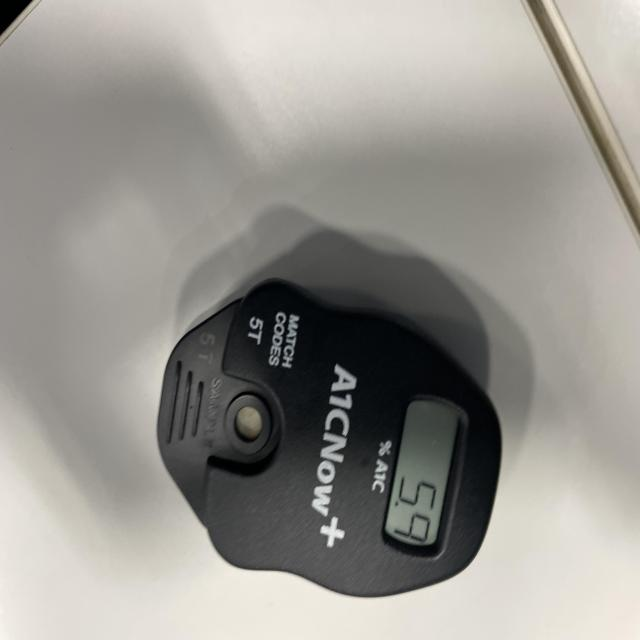hba1c: (155, 279, 504, 601)
